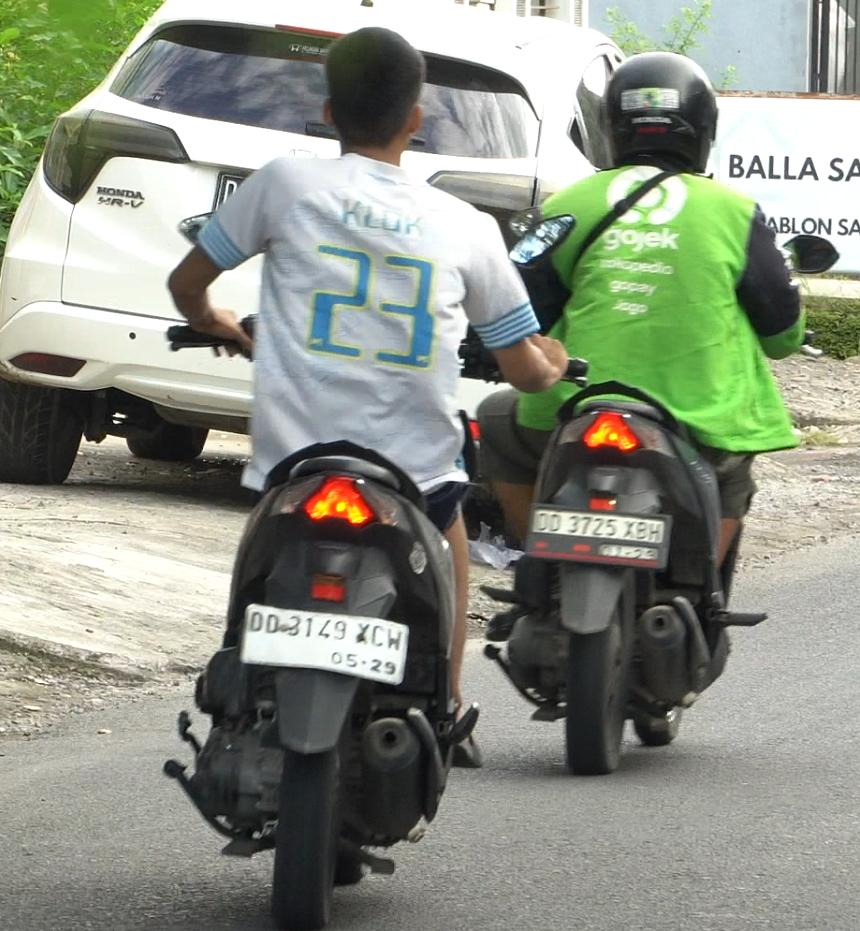number-plate: (221, 602, 428, 689), (522, 499, 675, 574)
